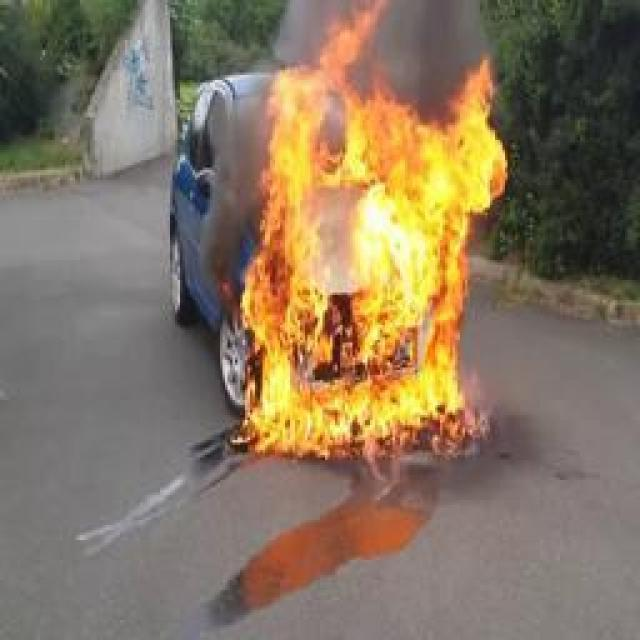Fire: (237, 0, 512, 452)
